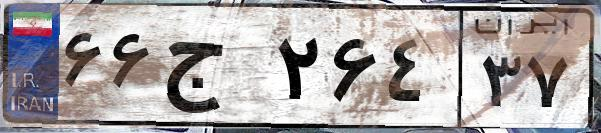2: (270, 28, 330, 110)
3: (475, 38, 525, 113)
4: (385, 28, 445, 110)
6: (330, 28, 385, 110), (57, 26, 110, 100), (110, 28, 158, 98)
7: (525, 38, 570, 115)
ج: (158, 20, 270, 120)
